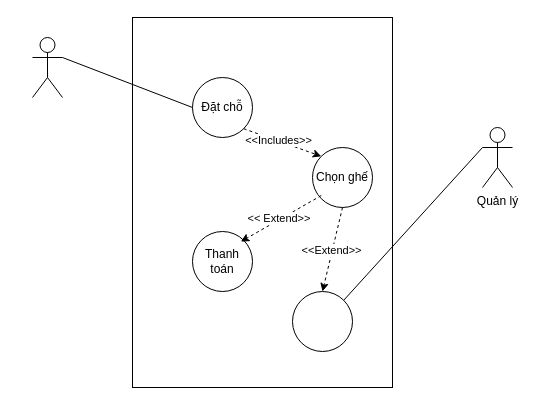
Some shapes in this 535 by 405 pixel diagram are drawn without their labels. The shapes that lost their labels are listed below. From the top down, each one's box as (x1, y1, x2, y2) in pixels, then its label:
(32, 36, 62, 98): Người xem
(292, 290, 352, 352): Huỷ vé
